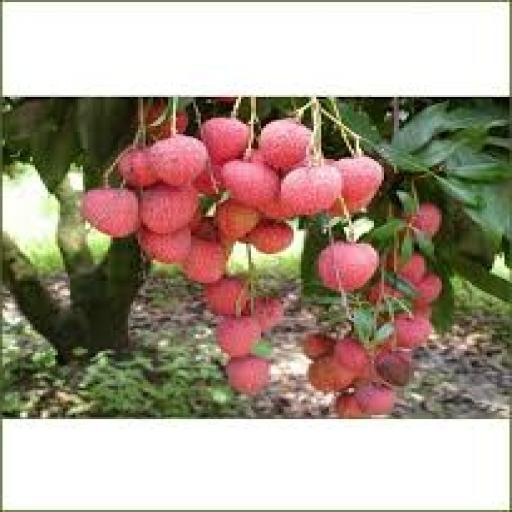lychee: (331, 155, 383, 214), (278, 166, 340, 214), (148, 135, 207, 185), (80, 188, 139, 237), (318, 242, 377, 291), (140, 184, 197, 233), (220, 159, 277, 208), (258, 118, 310, 171), (200, 118, 247, 165), (183, 238, 227, 282), (215, 199, 260, 241), (215, 316, 260, 357), (138, 228, 189, 264), (225, 356, 270, 394), (308, 356, 355, 392), (205, 277, 247, 315), (117, 149, 157, 187), (245, 221, 292, 253), (373, 349, 413, 386), (353, 384, 395, 414), (394, 314, 430, 348), (333, 339, 367, 373), (409, 203, 440, 237), (250, 298, 282, 330), (301, 333, 335, 361), (145, 102, 169, 140), (333, 393, 367, 419), (396, 254, 425, 284), (414, 273, 440, 305)
